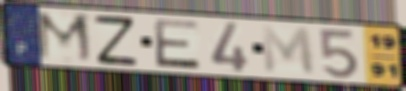4: (208, 20, 251, 75)
5: (317, 26, 361, 80)
E: (151, 17, 203, 71)
M: (34, 9, 97, 66), (259, 24, 318, 77)
Z: (91, 14, 140, 67)
